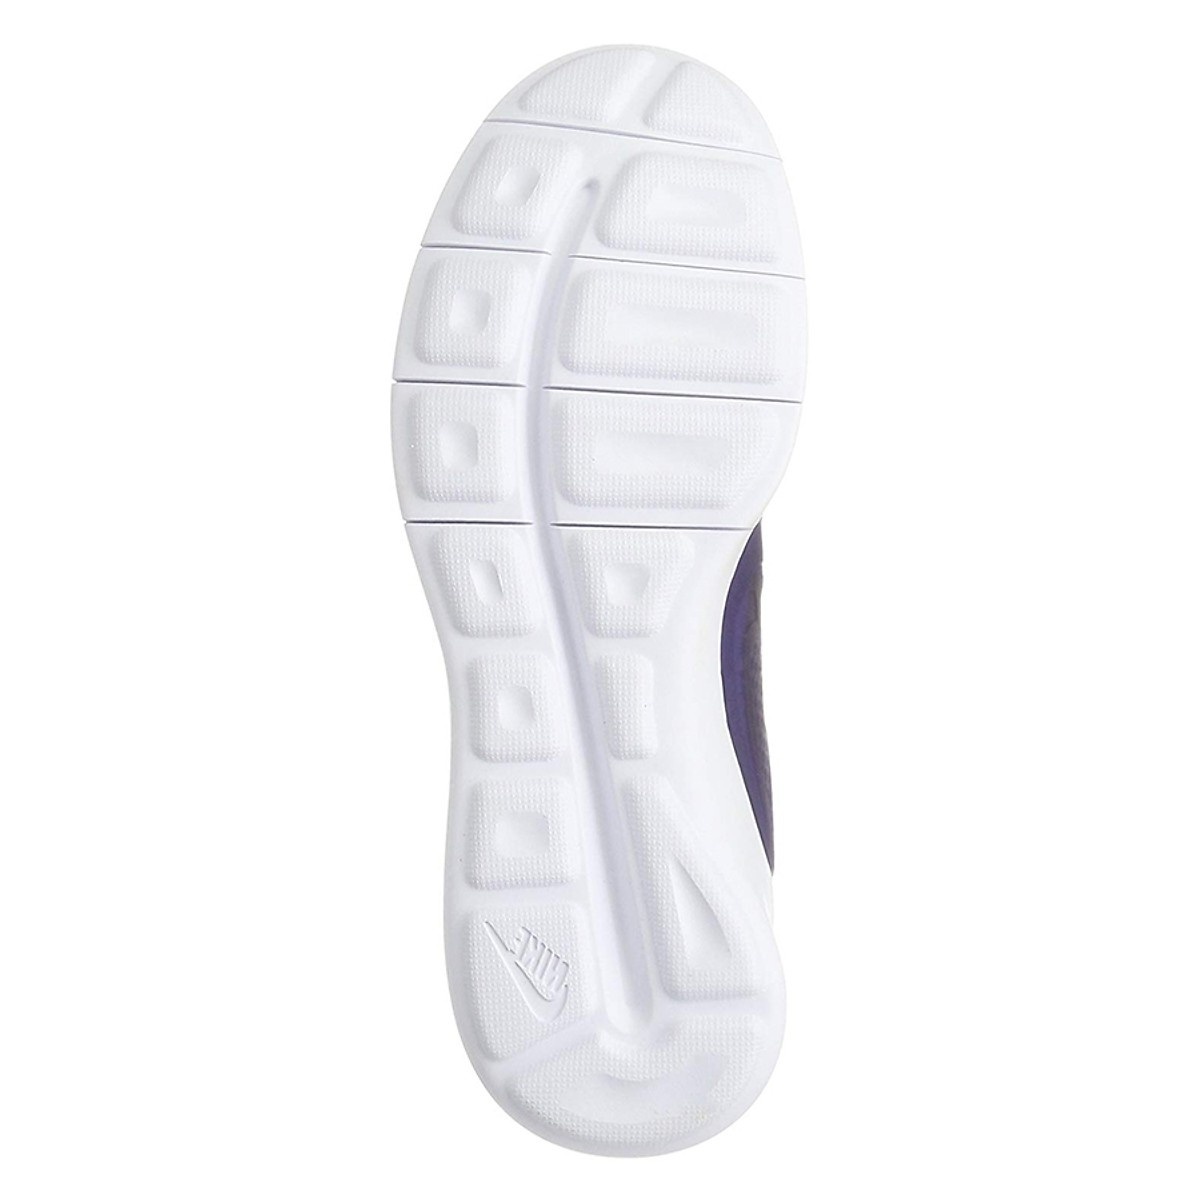Nike: (345, 875, 627, 1098)
